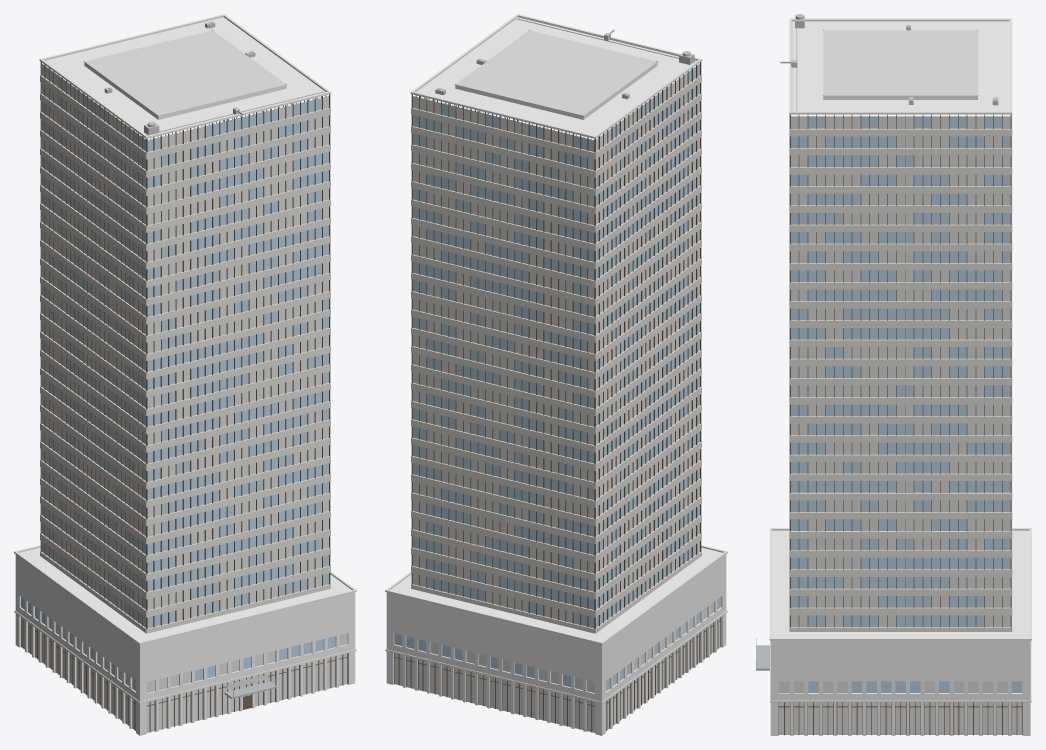
Rendered from tower_hero415.glb.
3 renders of one model, left to right at view 1: azimuth 30°, elevation 25°; view 2: azimuth 150°, elevation 25°; view 3: azimuth 270°, elevation 25°, orthographic. The views are drawn at different scales.
Visible parts, largest first — view 1: tower_hero415_Walls, tower_hero415_Glass, tower_hero415_WindowsLit, tower_hero415_Frames, tower_hero415_Walls2, tower_hero415_Roof, tower_hero415_Sign, tower_hero415_Trim, tower_hero415_Details; view 2: tower_hero415_Walls, tower_hero415_Glass, tower_hero415_WindowsLit, tower_hero415_Frames, tower_hero415_Walls2, tower_hero415_Roof, tower_hero415_Sign, tower_hero415_Trim, tower_hero415_Details; view 3: tower_hero415_Walls, tower_hero415_WindowsLit, tower_hero415_Glass, tower_hero415_Walls2, tower_hero415_Frames, tower_hero415_Roof, tower_hero415_Sign, tower_hero415_Trim, tower_hero415_Details.
Part boxes in pixels (box(x1,y1,x2,y2)): tower_hero415_Walls: box(40, 72, 330, 633); tower_hero415_Glass: box(21, 76, 335, 690); tower_hero415_WindowsLit: box(21, 64, 347, 732); tower_hero415_Frames: box(21, 62, 347, 732); tower_hero415_Walls2: box(15, 554, 355, 735); tower_hero415_Roof: box(19, 17, 351, 641); tower_hero415_Sign: box(85, 30, 285, 115); tower_hero415_Trim: box(14, 14, 356, 703); tower_hero415_Details: box(104, 21, 324, 696); tower_hero415_Walls: box(411, 72, 701, 633); tower_hero415_Glass: box(394, 64, 720, 690); tower_hero415_WindowsLit: box(394, 73, 720, 732); tower_hero415_Frames: box(394, 62, 720, 732); tower_hero415_Walls2: box(386, 554, 726, 735); tower_hero415_Roof: box(390, 17, 722, 641); tower_hero415_Sign: box(456, 30, 656, 115); tower_hero415_Trim: box(385, 14, 727, 703); tower_hero415_Details: box(435, 17, 696, 99); tower_hero415_Walls: box(789, 115, 1012, 631); tower_hero415_WindowsLit: box(779, 116, 1022, 734); tower_hero415_Glass: box(791, 116, 1022, 692); tower_hero415_Walls2: box(770, 640, 1030, 735); tower_hero415_Frames: box(778, 114, 1022, 735); tower_hero415_Roof: box(772, 21, 1029, 637); tower_hero415_Sign: box(823, 30, 977, 95); tower_hero415_Trim: box(769, 18, 1031, 702); tower_hero415_Details: box(756, 14, 998, 667).
Size of the model in its own units: 161 by 423 by 170.
